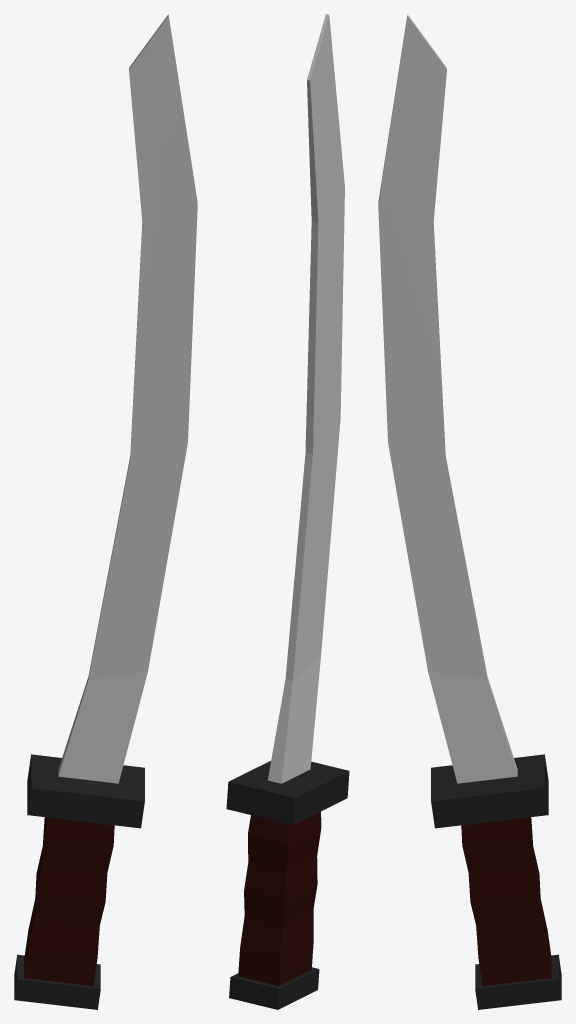
The model's file is shortkatana.obj.
The picture shows the model from 3 angles, left to right: view 1: azimuth 90°, elevation 25°; view 2: azimuth 150°, elevation 25°; view 3: azimuth 270°, elevation 25°; orthographic projection. The views are drawn at different scales.
Parts seen in each view (by area): view 1: Katana_Cube.005; view 2: Katana_Cube.005; view 3: Katana_Cube.005.
Part boxes in pixels (left/top/right/bottom): Katana_Cube.005: left=14, top=14, right=197, bottom=1009; Katana_Cube.005: left=226, top=14, right=349, bottom=1009; Katana_Cube.005: left=378, top=14, right=561, bottom=1009.
Bounding box in the file's own units: 0.0826 × 1.12 × 0.1898.
